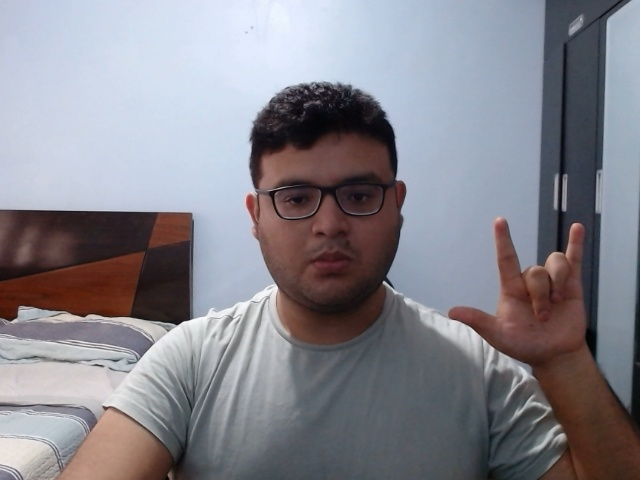I love you: (443, 211, 599, 362)
